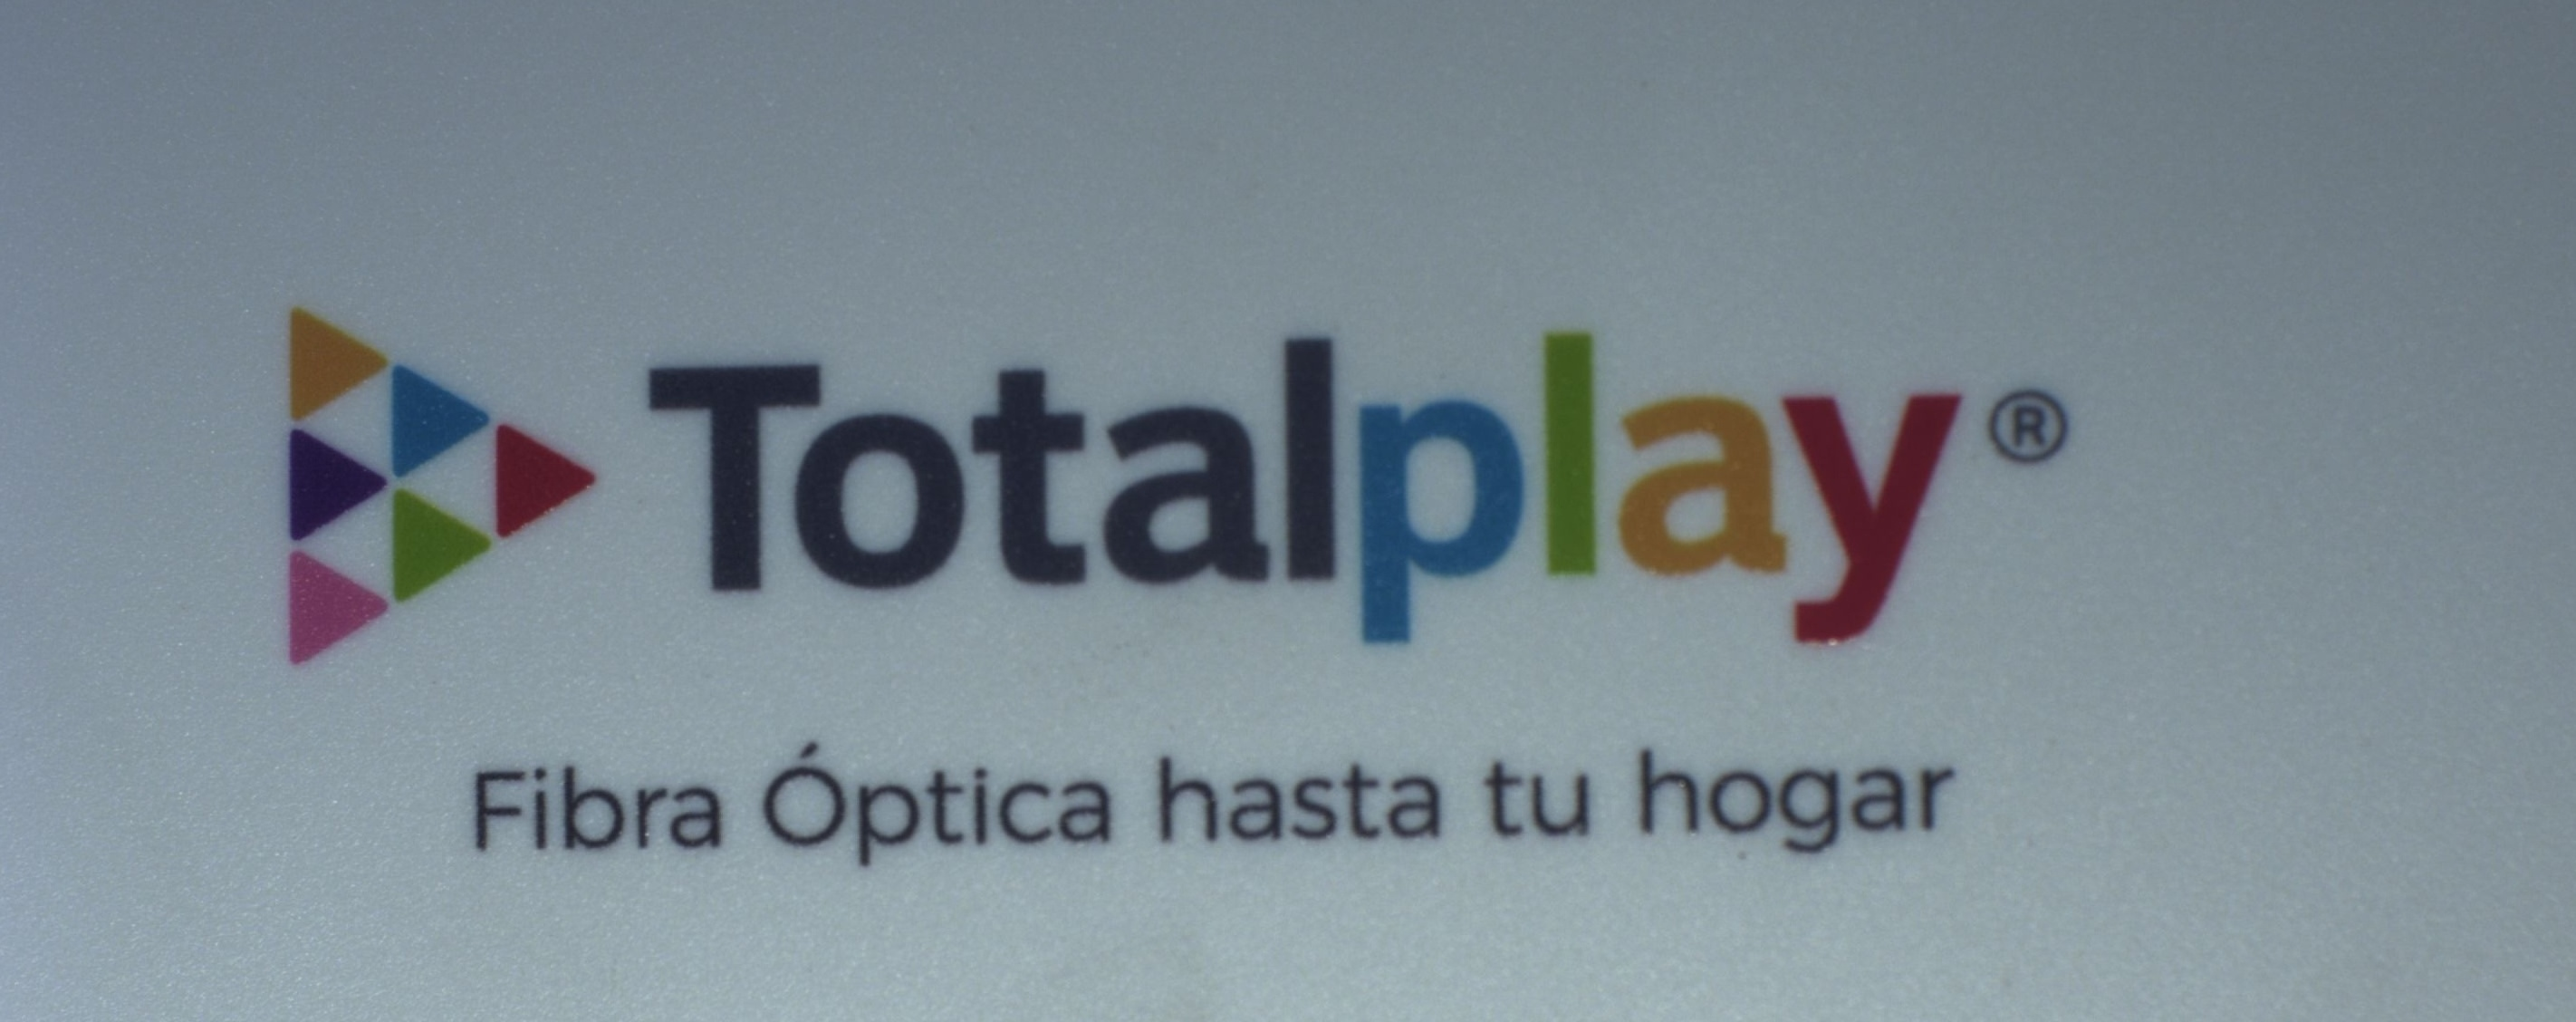BP_TotalPlay: (271, 286, 2104, 856)
